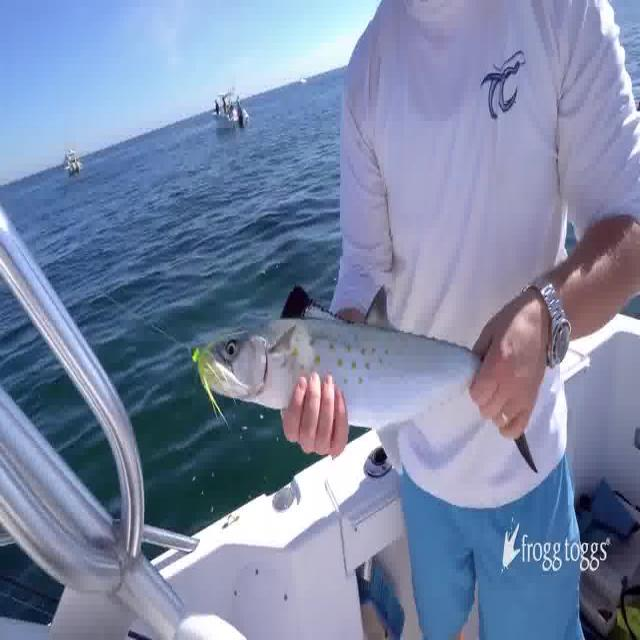Spanish Mackerel: (194, 282, 540, 478)
